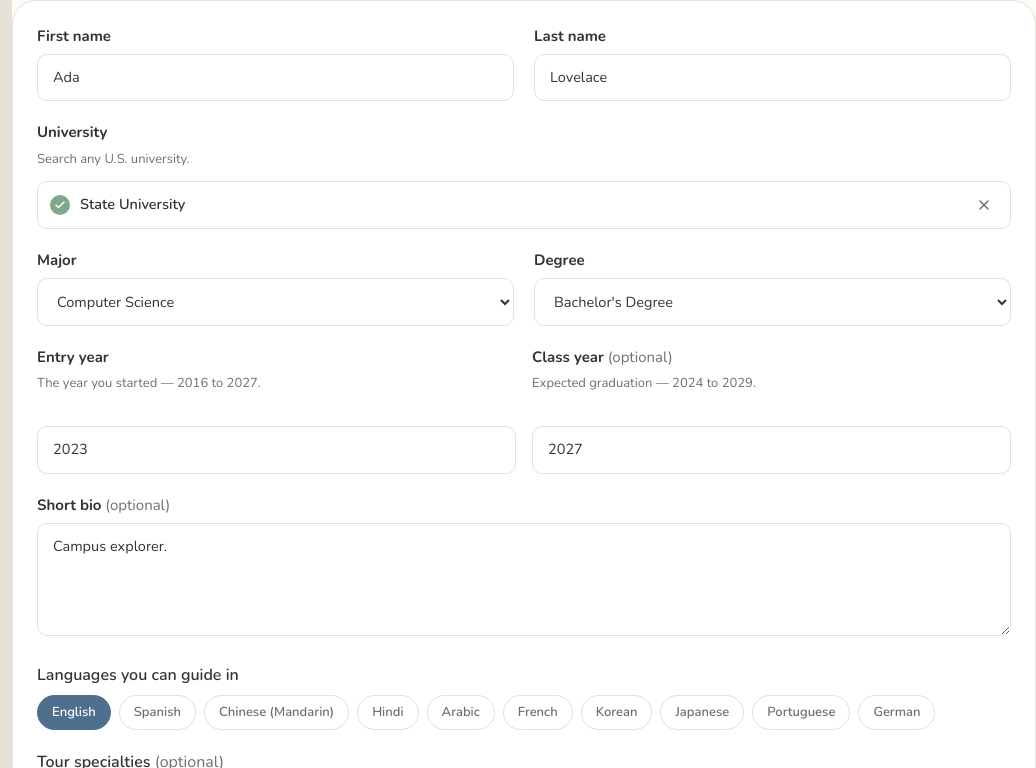
Scenario: GuideProfileForm › saves profile changes without submit
The width and height of the screenshot is (1036, 768).
Replace the text in the field labelled "First name" with "Grace" at (276,77), box [37,54,514,101]
(page scrolled)
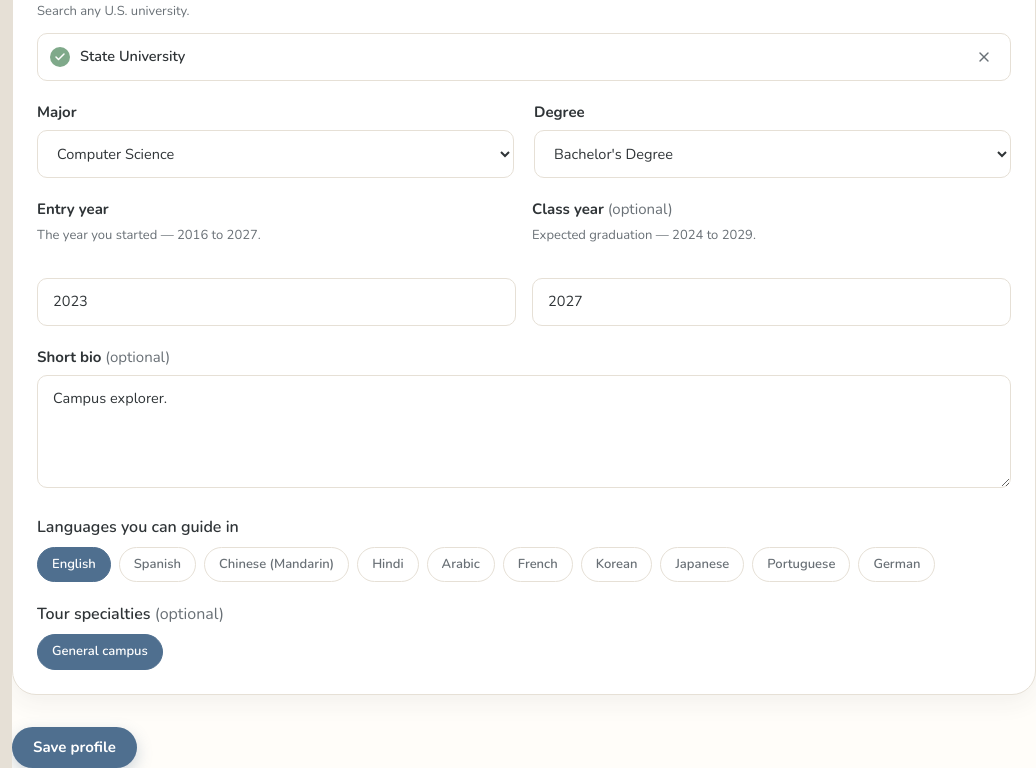
Click the button "Save profile" at (74,747), box [12,726,137,767]
(page scrolled)
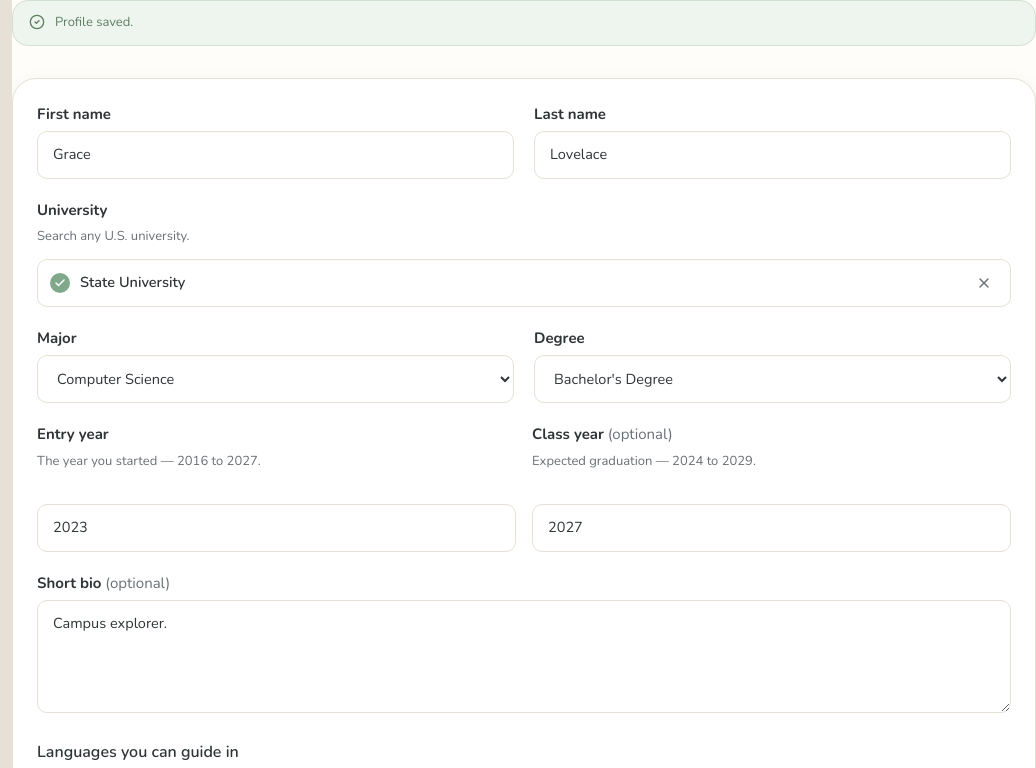
Now the text "Profile saved." is shown, box [55,13,133,31]
